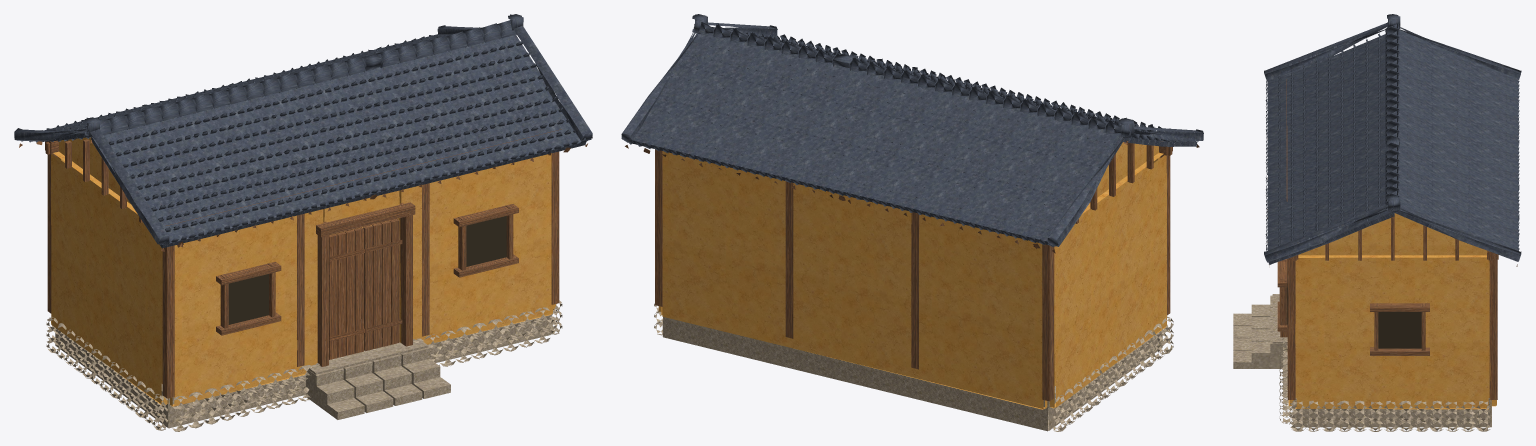
File: jinggangshan-object.glb
The picture shows the model from 3 angles, left to right: view 1: azimuth 30°, elevation 25°; view 2: azimuth 150°, elevation 25°; view 3: azimuth 270°, elevation 25°; orthographic projection. The views are drawn at different scales.
Parts seen in each view (by area): view 1: jinggangshan-object-landmark; view 2: jinggangshan-object-landmark; view 3: jinggangshan-object-landmark.
Boxes of the visible parts, box(x1,y1,x2,y2) form: jinggangshan-object-landmark: box(14, 14, 592, 431); jinggangshan-object-landmark: box(621, 14, 1203, 431); jinggangshan-object-landmark: box(1233, 14, 1521, 431).
Size of the model in its own units: 1 by 0.5984 by 0.6525.
16 materials, 15 textured.
